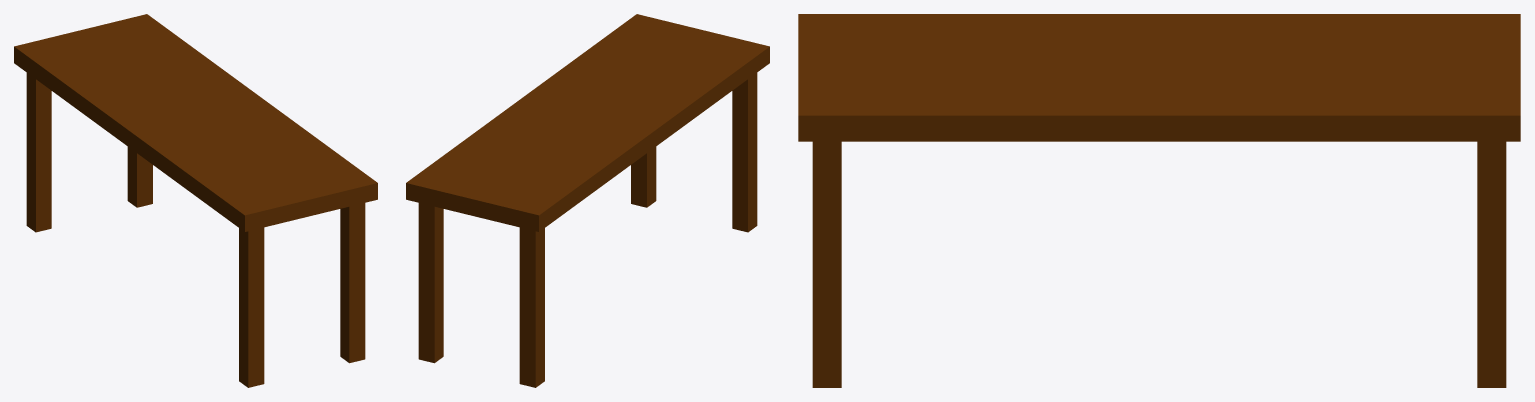
File: LongTable (Fixed V2).fbx
The picture shows the model from 3 angles, left to right: view 1: azimuth 30°, elevation 25°; view 2: azimuth 150°, elevation 25°; view 3: azimuth 270°, elevation 25°; orthographic projection. The views are drawn at different scales.
Visible parts, largest first — view 1: HR0 Long Table 0; view 2: HR0 Long Table 0; view 3: HR0 Long Table 0.
Part boxes in pixels (<box>): HR0 Long Table 0: <box>14,14,377,387</box>; HR0 Long Table 0: <box>406,14,769,387</box>; HR0 Long Table 0: <box>798,14,1520,387</box>.
Bounding box in the file's own units: 33.34 × 42.57 × 100.
